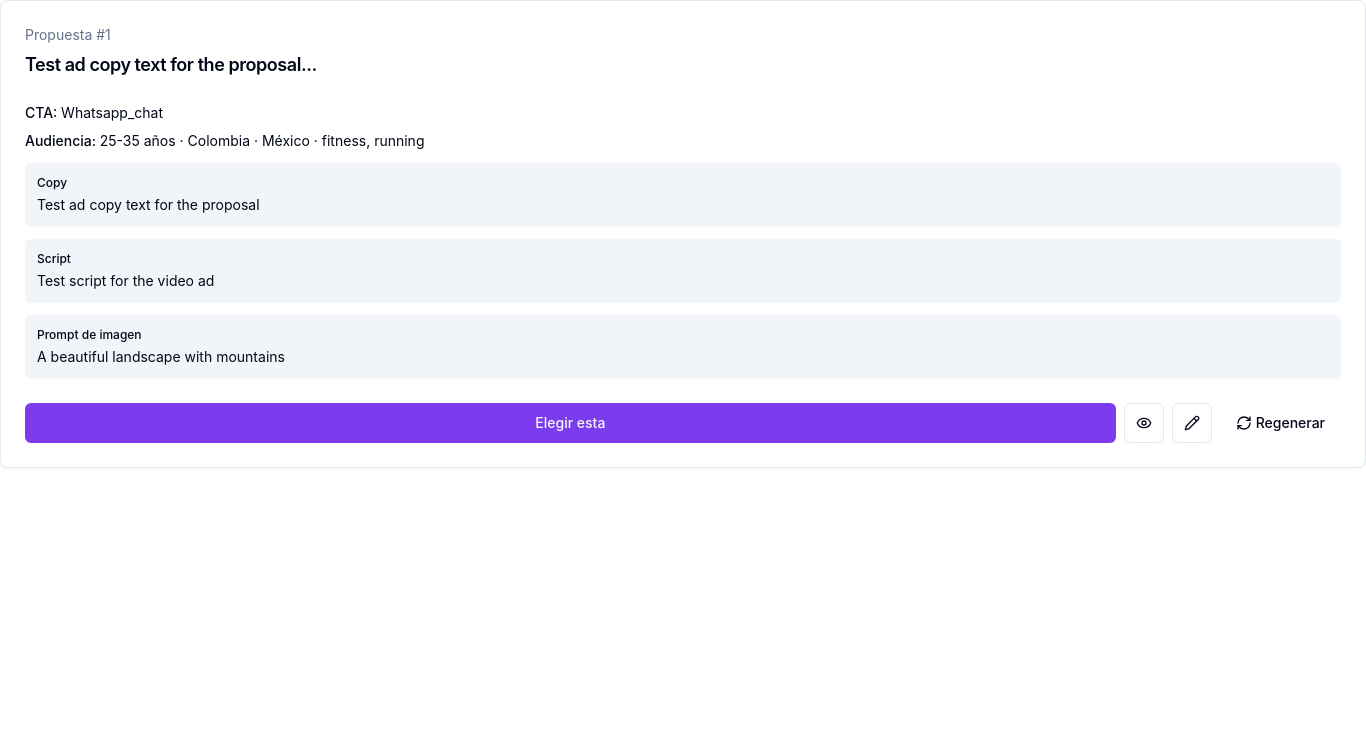
Test case: Proposal Editing › renders edit mode with all fields pre-filled when clicking Edit
The image size is (1366, 756).
Click the button titled "Editar" at (1192, 423), box [1172,403,1212,443]
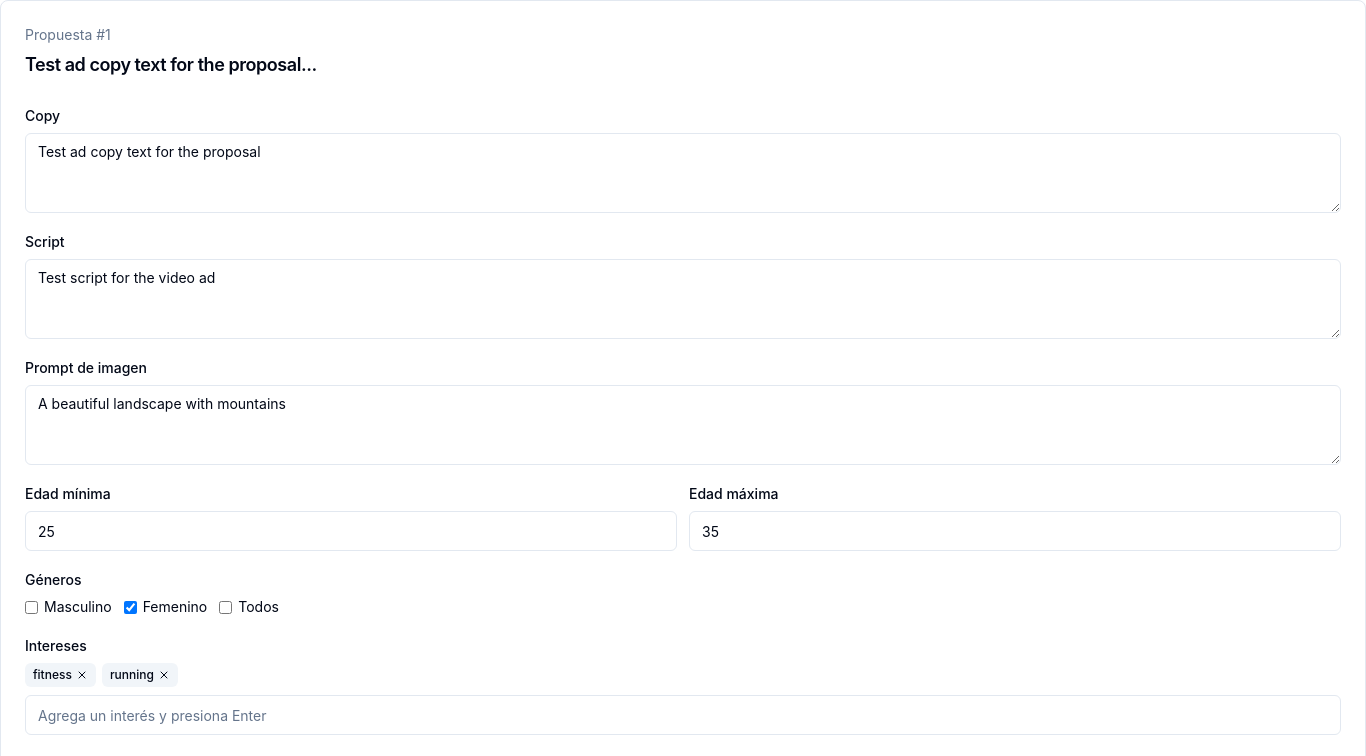
expect the text box labelled "Copy" holds "Test ad copy text for the proposal": met, box [25,133,1341,213]
expect the text box labelled "Script" holds "Test script for the video ad": met, box [25,259,1341,339]
expect the text box labelled "Prompt de imagen" holds "A beautiful landscape with mountains": met, box [25,385,1341,465]
